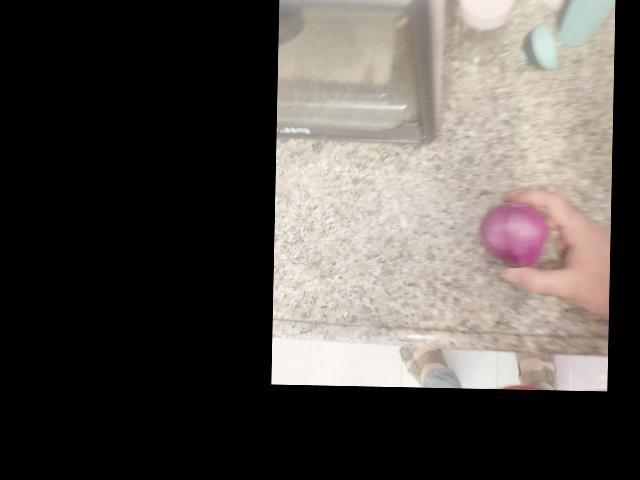onion: (484, 202, 543, 270)
